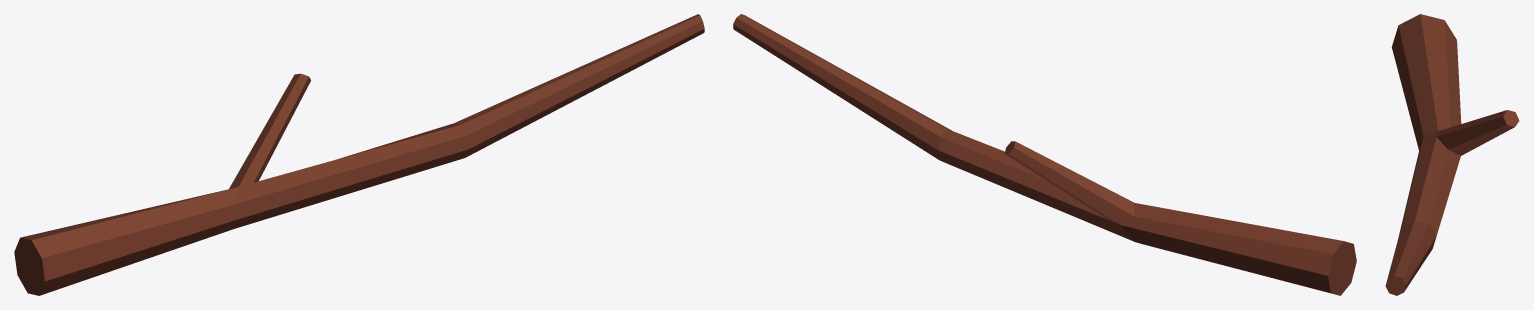
Rendered from pine_branch_type_7_LOD0.fbx.
3 renders of one model, left to right at view 1: azimuth 30°, elevation 25°; view 2: azimuth 150°, elevation 25°; view 3: azimuth 270°, elevation 25°, orthographic. The views are drawn at different scales.
Parts seen in each view (by area): view 1: Circle.083; view 2: Circle.083; view 3: Circle.083.
Part boxes in pixels (x1,y1,x2,y2): Circle.083: [14, 14, 704, 295]; Circle.083: [733, 14, 1356, 295]; Circle.083: [1385, 14, 1519, 295].
Size of the model in its own units: 365 by 68.3 by 60.45.
